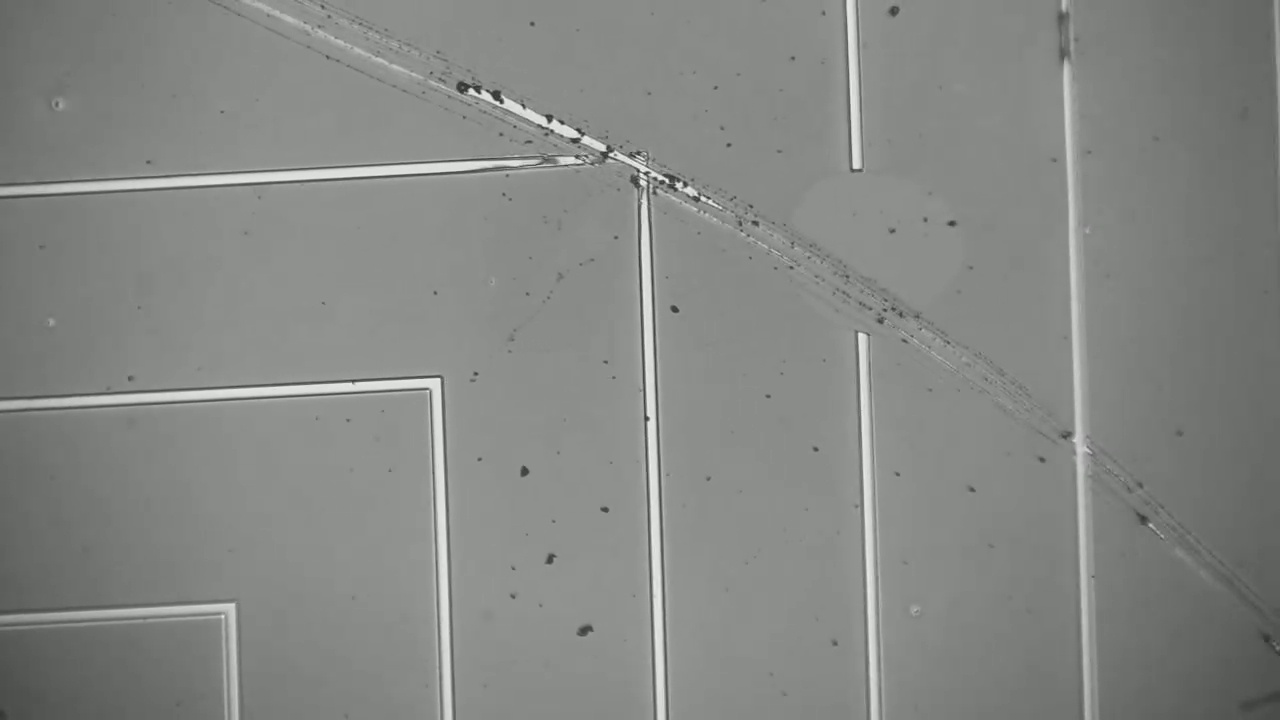gray_line: (1033, 0, 1095, 90)
open: (811, 130, 895, 361)
scratch: (690, 180, 1268, 627), (200, 0, 573, 154)
